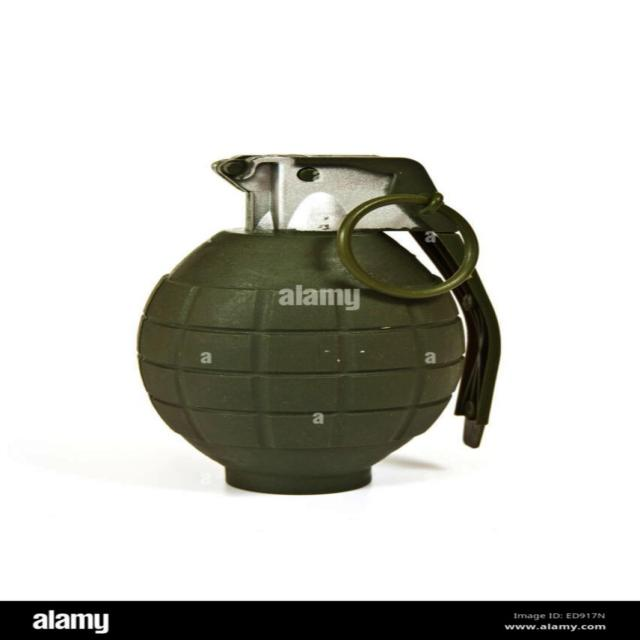grenade: (136, 153, 505, 496)
